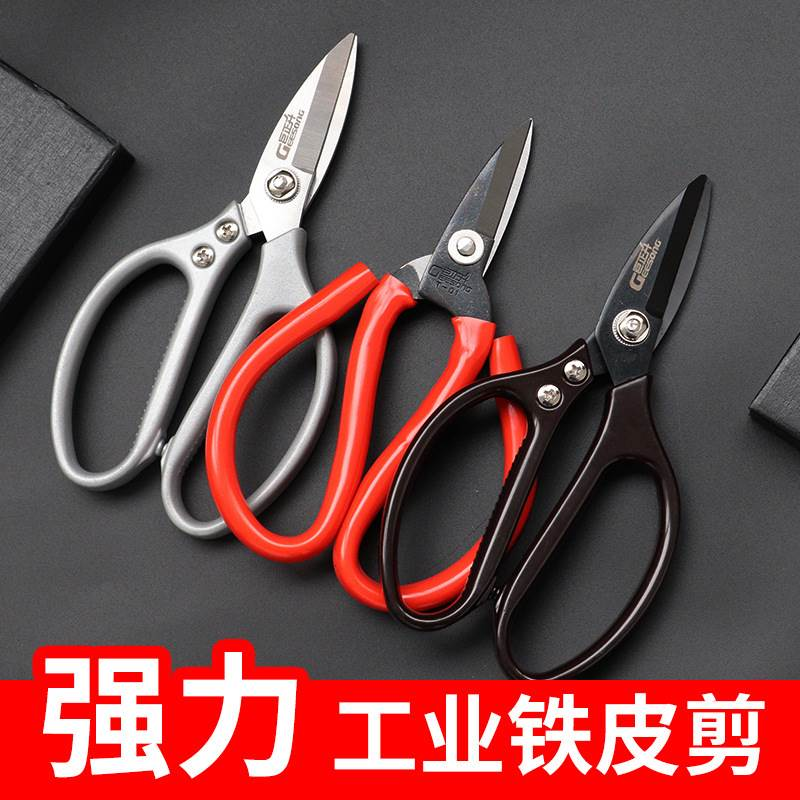scissors: (373, 170, 726, 681), (203, 113, 555, 619), (44, 25, 334, 553)
